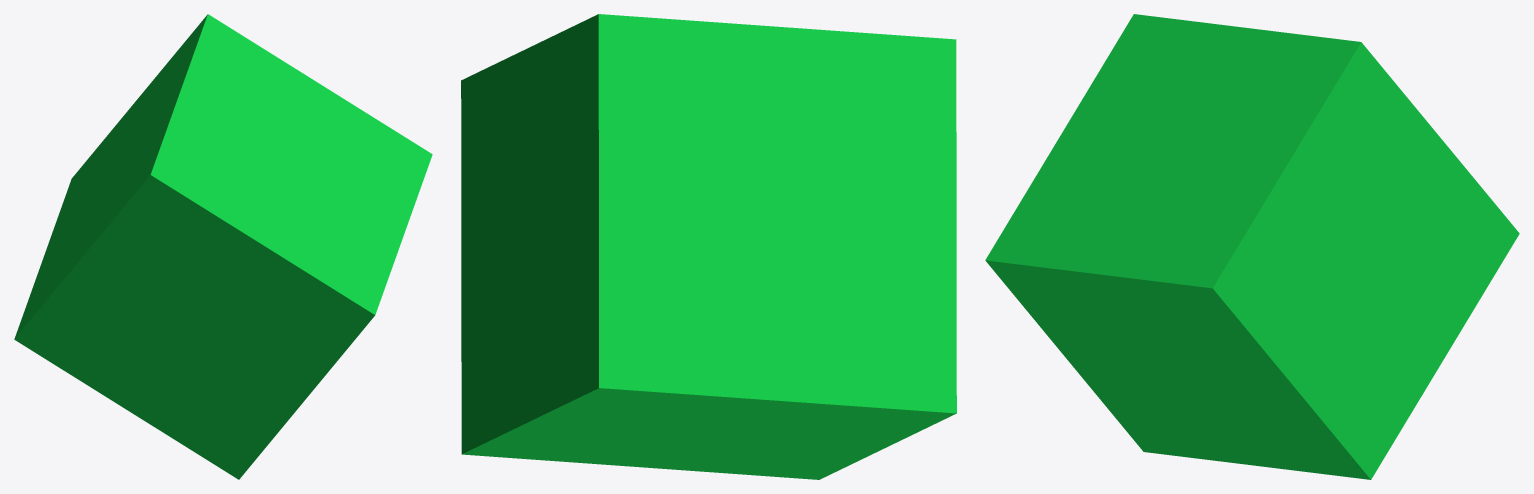
Rendered from cubo.glb.
3 renders of one model, left to right at view 1: azimuth 30°, elevation 25°; view 2: azimuth 150°, elevation 25°; view 3: azimuth 270°, elevation 25°, orthographic. The views are drawn at different scales.
Parts seen in each view (by area): view 1: node_id5; view 2: node_id5; view 3: node_id5.
Part boxes in pixels (bbox=[...]): node_id5: bbox=[14, 14, 432, 479]; node_id5: bbox=[461, 14, 956, 479]; node_id5: bbox=[985, 14, 1519, 479].
Size of the model in its own units: 0.512 by 0.4868 by 0.5294.
Materials: 1 (1 with a texture image).
